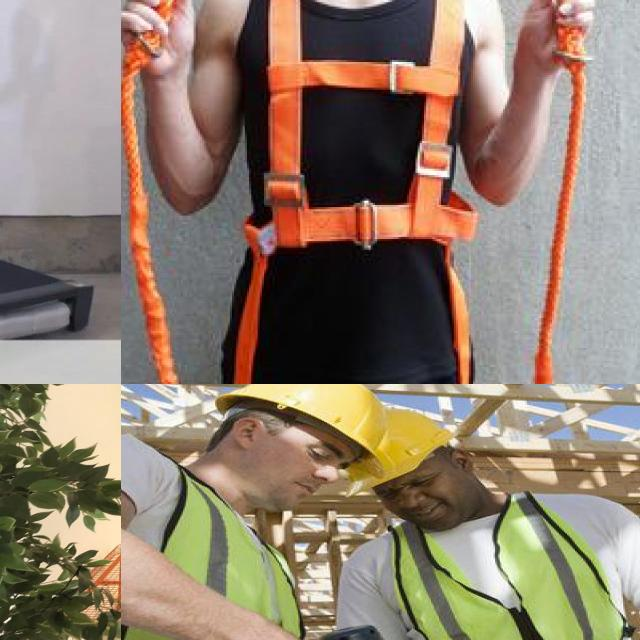Harness: (230, 0, 471, 384)
No_Ear-Protection: (213, 416, 276, 452), (449, 449, 473, 473)
No_Glasses: (374, 448, 462, 499), (273, 424, 357, 469)
face_nomask: (190, 429, 338, 513), (381, 472, 507, 531)
head_helmet: (216, 384, 385, 452), (348, 410, 453, 488)
